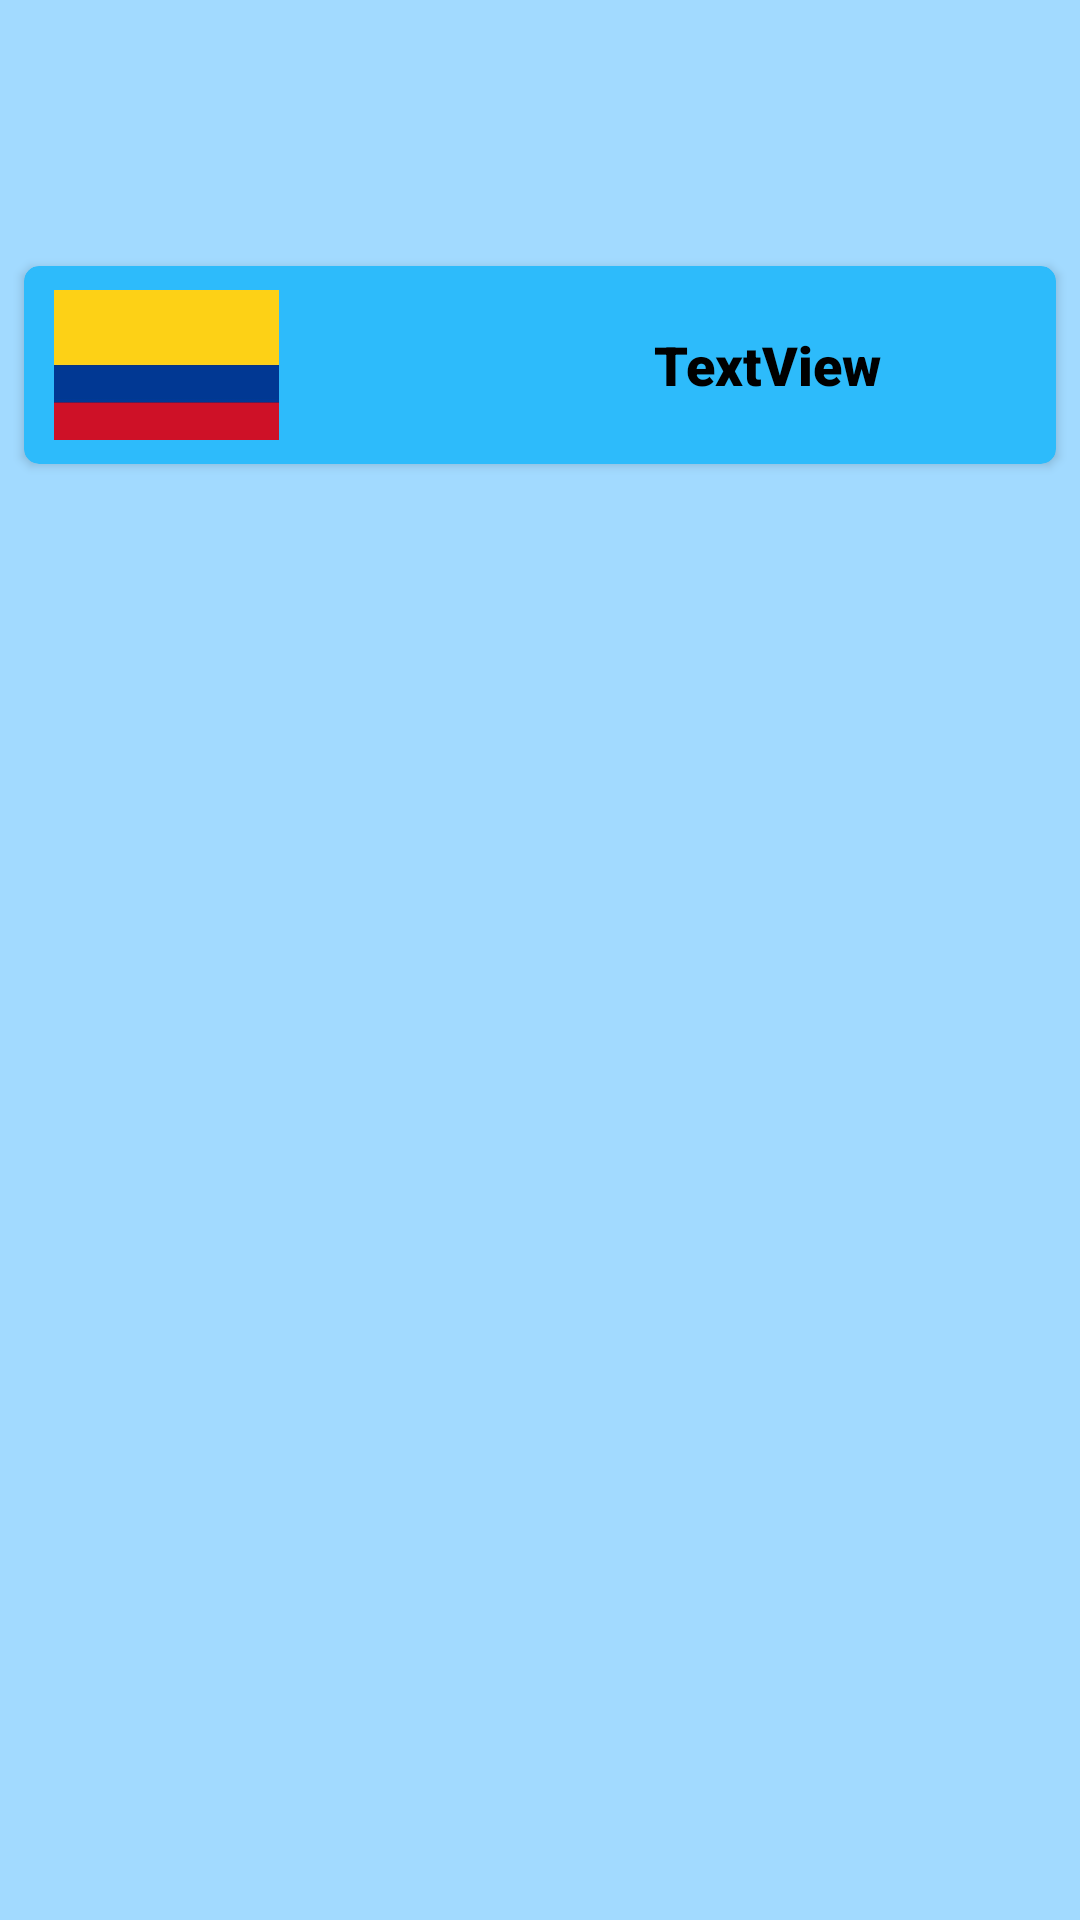

Named icons in this screenshot (1080px x 1920px) and their bounding boxes, (x1, y1, x2, y2):
colombiaflag: (54, 290, 279, 440)
